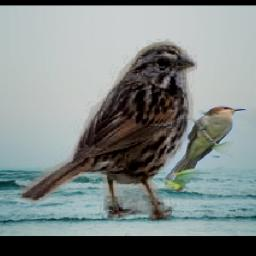Cuckoo: (163, 105, 246, 192)
Sparrow: (17, 39, 196, 221)
